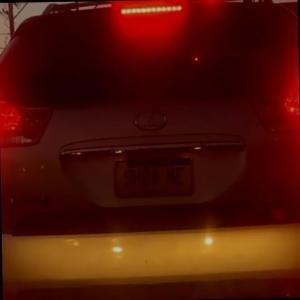Plate: (112, 155, 193, 199)
